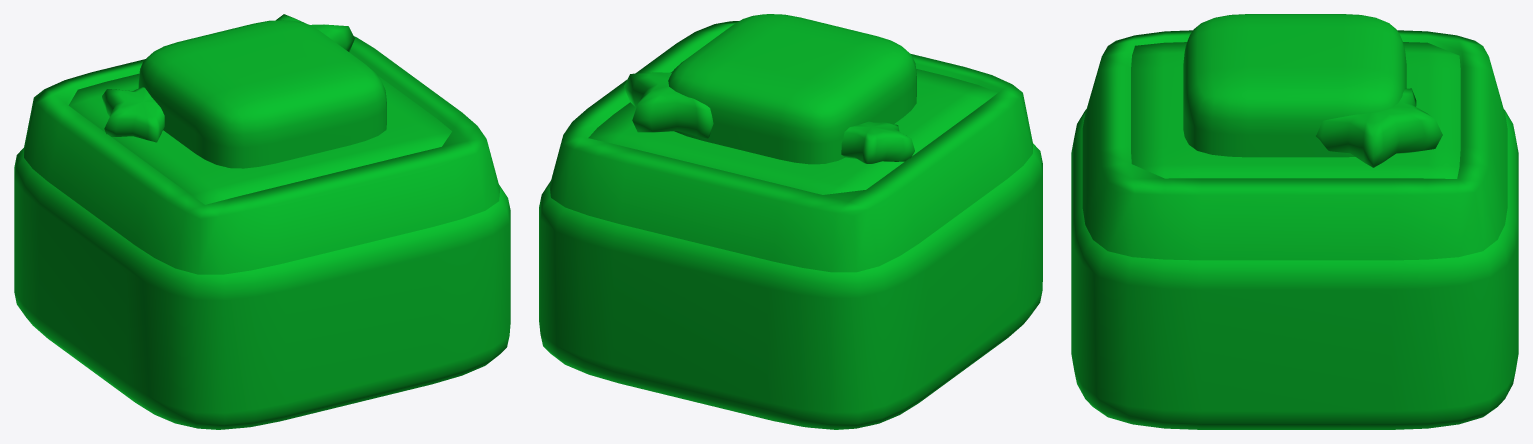
The model's file is block_1.fbx.
The picture shows the model from 3 angles, left to right: view 1: azimuth 30°, elevation 25°; view 2: azimuth 150°, elevation 25°; view 3: azimuth 270°, elevation 25°; orthographic projection. The views are drawn at different scales.
Parts seen in each view (by area): view 1: block_1, block_8, block_up, stars; view 2: block_1, block_8, block_up, stars; view 3: block_1, block_8, block_up, stars.
Part boxes in pixels (x1,y1,x2,y2): block_1: [14, 73, 510, 429]; block_8: [24, 36, 499, 274]; block_up: [138, 20, 386, 168]; stars: [102, 14, 354, 142]; block_1: [539, 68, 1042, 429]; block_8: [549, 21, 1032, 272]; block_up: [668, 14, 916, 164]; stars: [624, 72, 914, 163]; block_1: [1071, 42, 1518, 429]; block_8: [1082, 30, 1507, 260]; block_up: [1183, 14, 1406, 157]; stars: [1316, 88, 1442, 167].
Bounding box in the file's own units: 1.02 × 0.7708 × 1.02.
